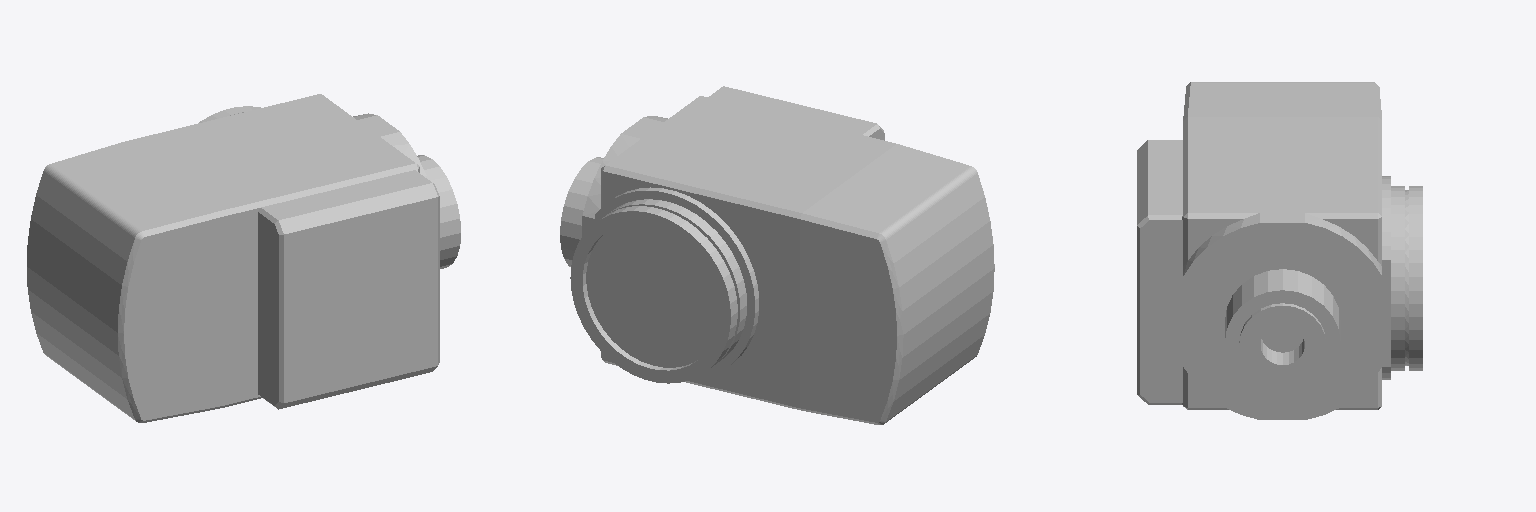
Rendered from L6Spindle.obj.
3 renders of one model, left to right at view 1: azimuth 30°, elevation 25°; view 2: azimuth 150°, elevation 25°; view 3: azimuth 270°, elevation 25°, orthographic.
Visible parts, largest first — view 1: L6Spindle.001; view 2: L6Spindle.001; view 3: L6Spindle.001.
Part boxes in pixels (x1,y1,x2,y2): L6Spindle.001: (27, 94, 460, 422); L6Spindle.001: (560, 86, 994, 424); L6Spindle.001: (1137, 82, 1422, 419).
Bounding box in the file's own units: 0.4545 × 0.235 × 0.309.